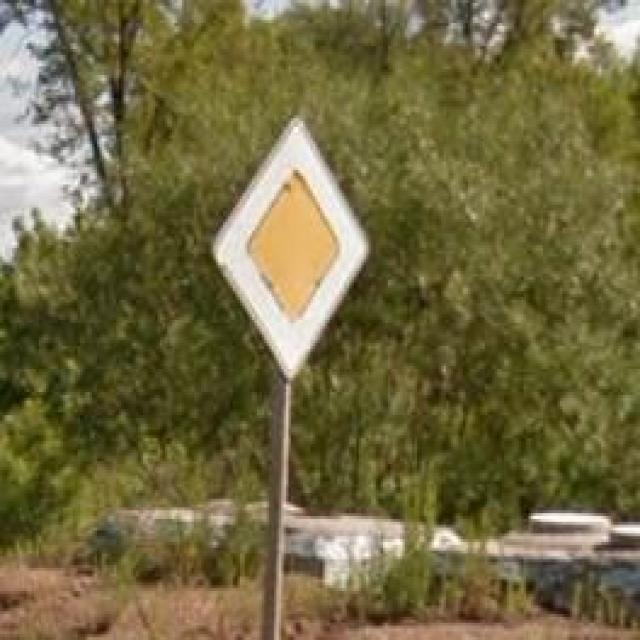Droga z pierwszenstwem: (211, 111, 373, 382)
